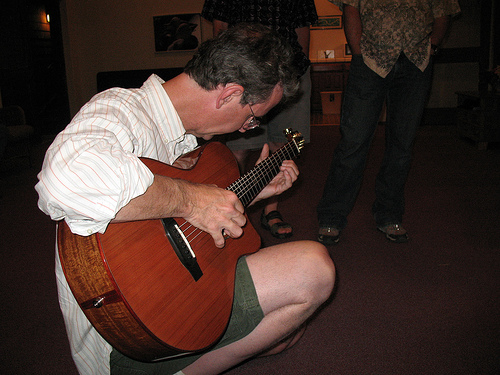guitar: (54, 126, 307, 363)
